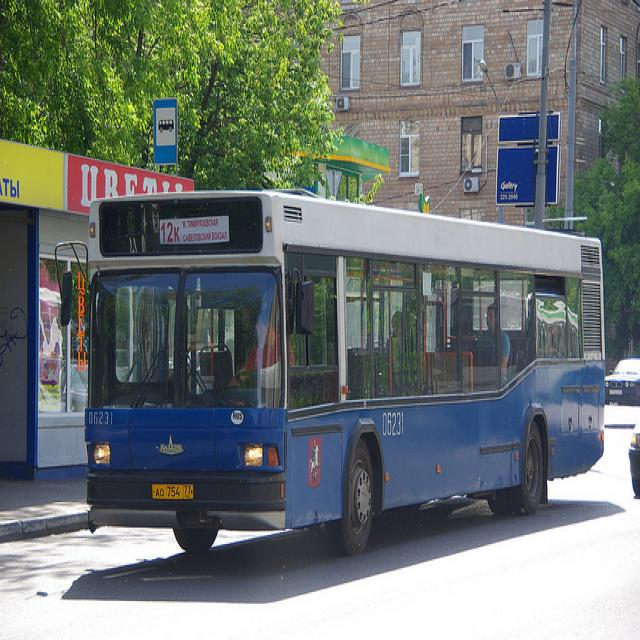Vehicle: (81, 193, 610, 551), (604, 358, 640, 406), (628, 410, 640, 499)
